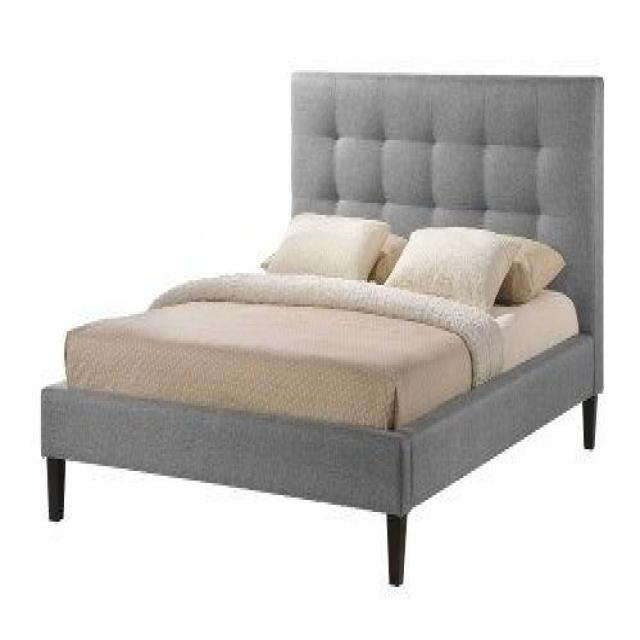bed: (40, 68, 604, 584)
